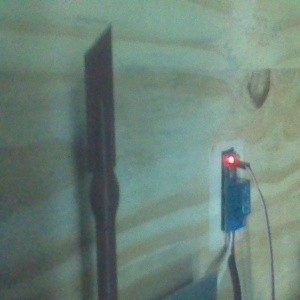cutter: (83, 22, 121, 300)
